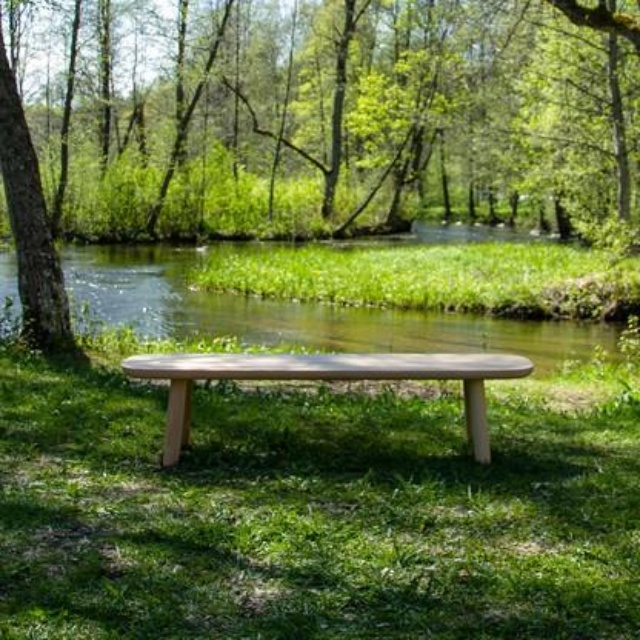obstacle: (114, 329, 537, 485)
